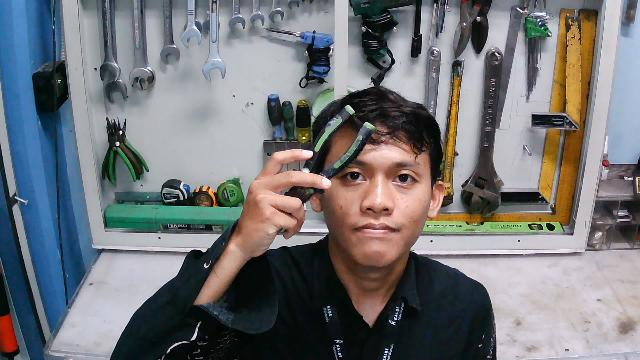tang_kombinasi: (261, 104, 376, 234)
